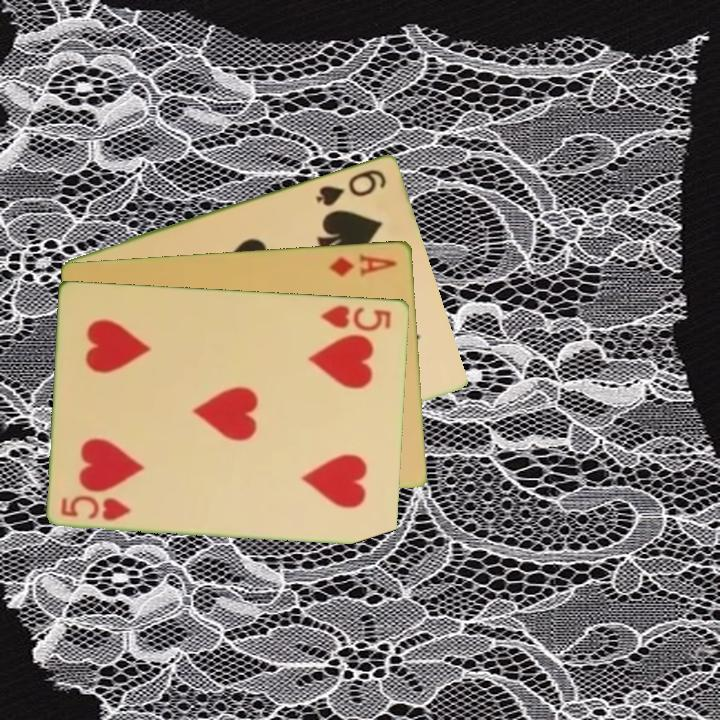5h: (317, 301, 394, 334), (57, 491, 134, 523)
6s: (312, 165, 390, 209)
Ad: (325, 249, 400, 279)
